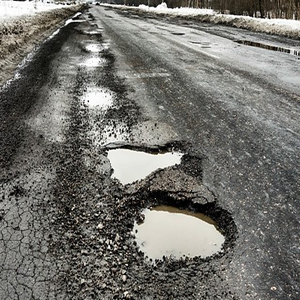pothole: (116, 191, 236, 275), (98, 142, 192, 184), (75, 81, 125, 112)
